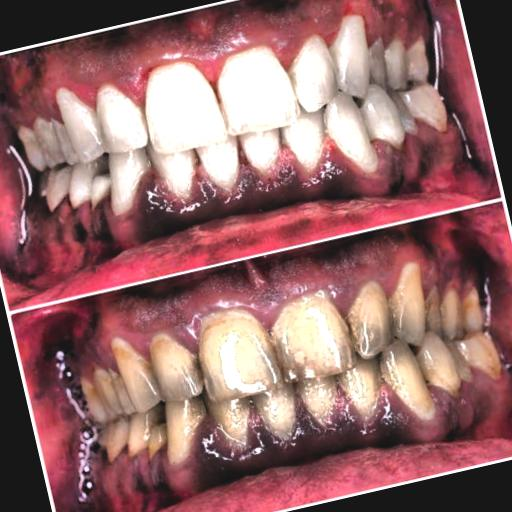Calculus: (47, 218, 496, 492)
